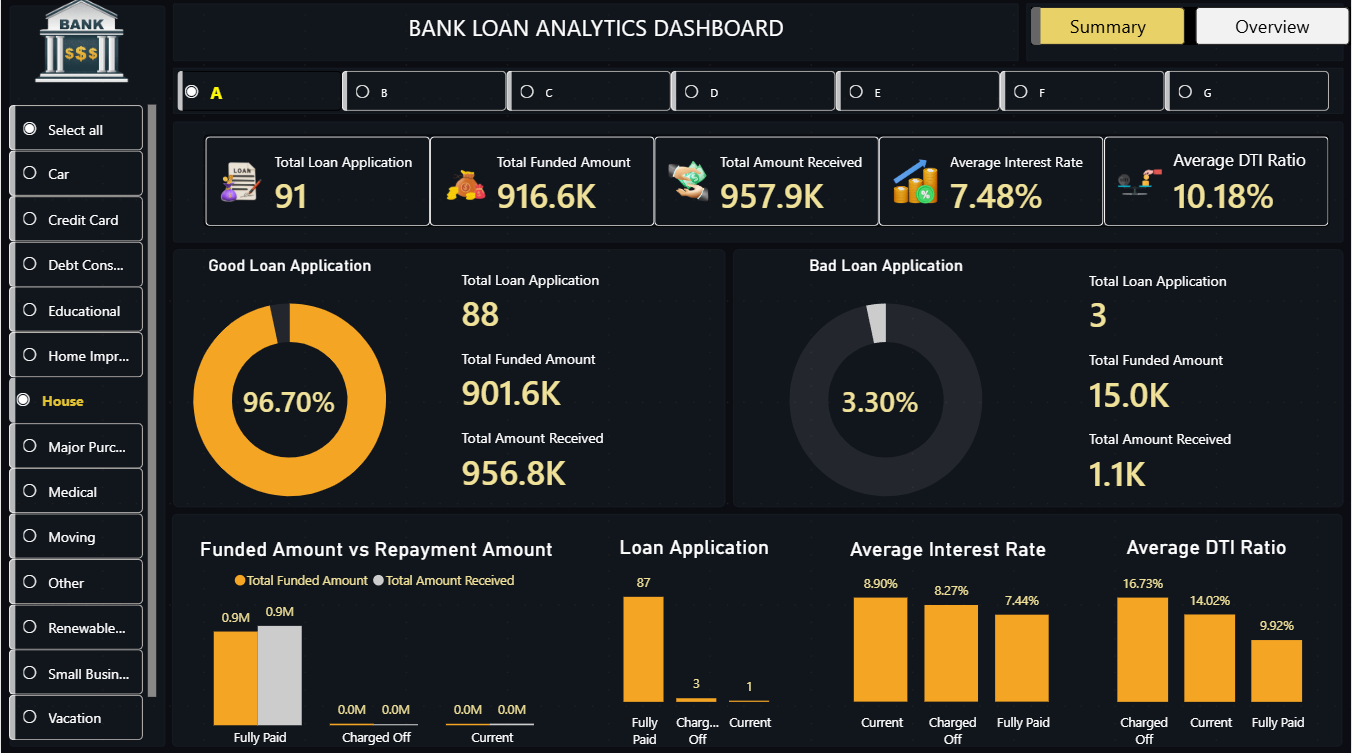

What the dashboard file says about the page in this screenshot:
{"tool":"powerbi","page":{"name":"Summary","canvas":[1280,720],"ordinal":0},"visuals":[{"type":"cardVisual","fields":{"Data":["financial_loan.Total Loan Application","financial_loan.Total Funded Amount","financial_loan.Total Amount Received","financial_loan.Average Interest Rate","financial_loan.Average DTI Ratio"]},"box":[175.3,114.1,1104.7,121],"z":0},{"type":"donutChart","title":"Good Loan Application","fields":{"Y":["financial_loan.Total Loan Application"],"Category":["financial_loan.good_vs_bad"]},"box":[44.5,244.9,457.7,256],"z":1000},{"type":"cardVisual","fields":{"Data":["financial_loan.Good Loan %"]},"box":[200.3,347.8,160,68.2],"z":2000},{"type":"cardVisual","fields":{"Data":["financial_loan.Bad Loan %"]},"box":[768,347.8,160,68.2],"z":3000},{"type":"donutChart","title":"Bad Loan Application","fields":{"Y":["financial_loan.Total Loan Application"],"Category":["financial_loan.good_vs_bad"]},"box":[610.8,244.9,457.7,256],"z":4000},{"type":"cardVisual","fields":{"Data":["financial_loan.Total Loan Application","financial_loan.Total Funded Amount","financial_loan.Total Amount Received"],"Rows":["financial_loan.good_vs_bad"]},"box":[407.7,185,232.3,327],"z":5000},{"type":"cardVisual","fields":{"Data":["financial_loan.Total Loan Application","financial_loan.Total Funded Amount","financial_loan.Total Amount Received"],"Rows":["financial_loan.good_vs_bad"]},"box":[1003.1,186.4,232.3,327],"z":6000},{"type":"clusteredColumnChart","title":"Funded Amount vs Repayment Amount","fields":{"Category":["financial_loan.LOAN_STATUS"],"Y":["financial_loan.Total Funded Amount","financial_loan.Total Amount Received"]},"box":[153,512,406.3,208.7],"z":7000},{"type":"clusteredColumnChart","title":"Loan Application","fields":{"Category":["financial_loan.LOAN_STATUS"],"Y":["financial_loan.Total Loan Application"]},"box":[559.3,510.6,196.2,208.7],"z":8000},{"type":"clusteredColumnChart","title":"Average Interest Rate","fields":{"Category":["financial_loan.LOAN_STATUS"],"Y":["financial_loan.Average Interest Rate"]},"box":[768,512,260.2,207.3],"z":9000},{"type":"clusteredColumnChart","title":"Average DTI Ratio","fields":{"Category":["financial_loan.LOAN_STATUS"],"Y":["financial_loan.Average DTI Ratio"]},"box":[1019.8,510.6,247.7,208.7],"z":10000},{"type":"image","box":[0,0,153,80.7],"z":11000},{"type":"shape","box":[162.8,0,804.2,55.7],"z":12000},{"type":"advancedSlicerVisual","fields":{"Values":["financial_loan.PURPOSE"]},"box":[2.8,96.7,150.3,623.3],"z":13000},{"type":"advancedSlicerVisual","fields":{"Values":["financial_loan.GRADE"]},"box":[162.8,65.4,1104.7,48.7],"z":14000},{"type":"pageNavigator","box":[976.7,9.7,303.3,36.2],"z":15000}]}

Visuals, with their boxes in screenshot pixels (x1, y1, x2, y2), scaled from the page's 1280x720 canvas onto the 1352x753 screenshot:
cardVisual - financial_loan.Total Loan Application x financial_loan.Total Funded Amount: x1=185 y1=119 x2=1351 y2=246
"Good Loan Application" donutChart: x1=47 y1=256 x2=530 y2=524
cardVisual - financial_loan.Good Loan %: x1=212 y1=364 x2=381 y2=435
cardVisual - financial_loan.Bad Loan %: x1=811 y1=364 x2=980 y2=435
"Bad Loan Application" donutChart: x1=645 y1=256 x2=1129 y2=524
cardVisual - financial_loan.Total Loan Application x financial_loan.Total Funded Amount: x1=431 y1=193 x2=676 y2=535
cardVisual - financial_loan.Total Loan Application x financial_loan.Total Funded Amount: x1=1060 y1=195 x2=1305 y2=537
"Funded Amount vs Repayment Amount" clusteredColumnChart: x1=162 y1=535 x2=591 y2=752
"Loan Application" clusteredColumnChart: x1=591 y1=534 x2=798 y2=752
"Average Interest Rate" clusteredColumnChart: x1=811 y1=535 x2=1086 y2=752
"Average DTI Ratio" clusteredColumnChart: x1=1077 y1=534 x2=1339 y2=752
image: x1=0 y1=0 x2=162 y2=84
shape: x1=172 y1=0 x2=1021 y2=58
advancedSlicerVisual - financial_loan.PURPOSE: x1=3 y1=101 x2=162 y2=752
advancedSlicerVisual - financial_loan.GRADE: x1=172 y1=68 x2=1339 y2=119
pageNavigator: x1=1032 y1=10 x2=1351 y2=48
